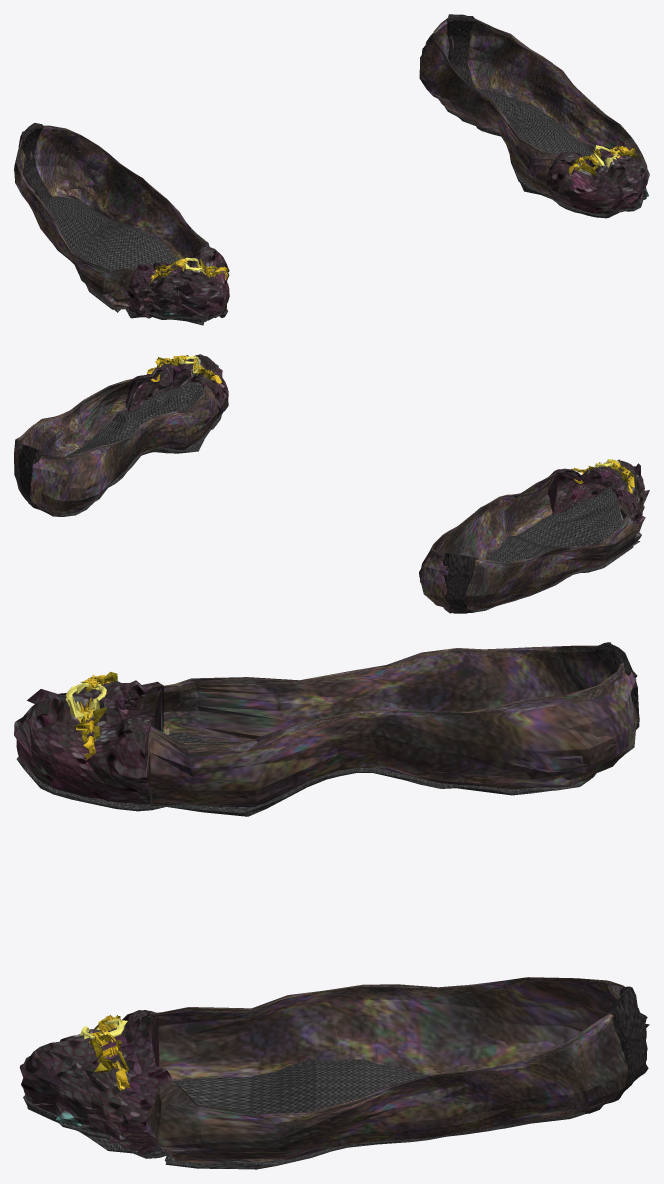
Rendered from mhw_elvs_flatshoe_buckle_1.glb.
The picture shows the model from 3 angles, top to bottom: view 1: azimuth 30°, elevation 25°; view 2: azimuth 150°, elevation 25°; view 3: azimuth 270°, elevation 25°; orthographic projection. The views are drawn at different scales.
Parts seen in each view (by area): view 1: mhw_elvs_flatshoe_buckle_1; view 2: mhw_elvs_flatshoe_buckle_1; view 3: mhw_elvs_flatshoe_buckle_1.
Boxes of the visible parts, x1,y1,x2,y2 form: mhw_elvs_flatshoe_buckle_1: [14, 14, 649, 325]; mhw_elvs_flatshoe_buckle_1: [14, 354, 649, 613]; mhw_elvs_flatshoe_buckle_1: [14, 642, 649, 1169].
Size of the model in its own units: 0.5417 by 0.0846 by 0.3264.
Materials: 1 (1 with a texture image).
